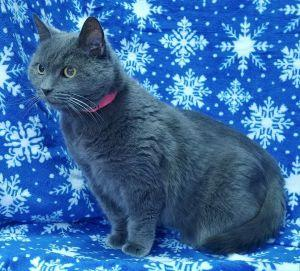rblue: (26, 10, 120, 120)
